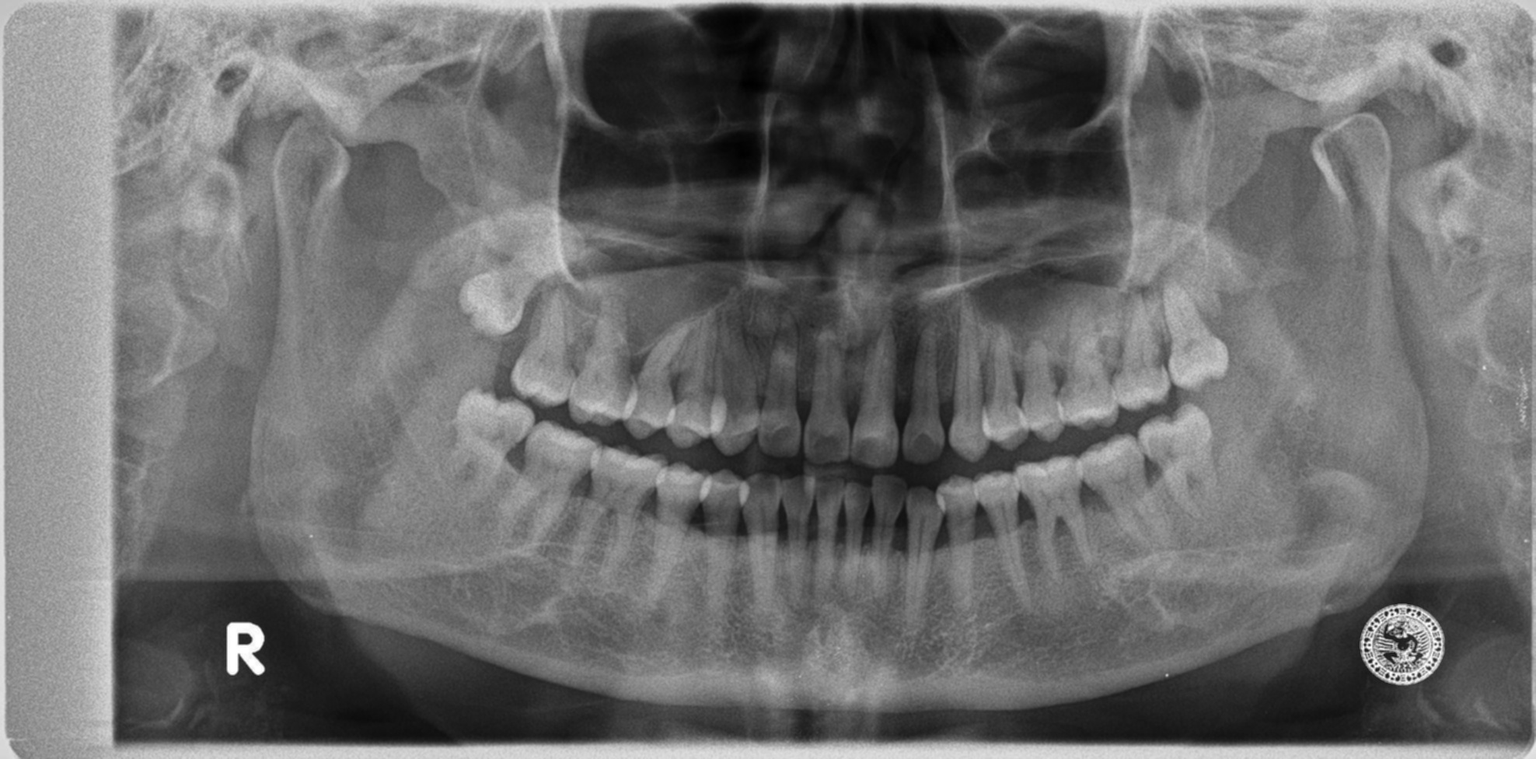Individual Tooth: (496, 421, 599, 548), (572, 442, 668, 576), (1076, 435, 1169, 547), (569, 286, 637, 425), (1014, 456, 1090, 579), (623, 318, 698, 439), (649, 463, 714, 596), (1137, 404, 1213, 517), (665, 310, 727, 447), (972, 471, 1031, 610), (699, 471, 749, 628), (710, 297, 759, 456), (511, 289, 574, 406), (1164, 283, 1227, 390), (851, 327, 899, 467), (948, 294, 988, 461), (1057, 319, 1118, 428), (901, 323, 948, 464), (1112, 296, 1170, 410), (457, 390, 535, 472), (804, 327, 850, 464), (759, 306, 801, 456), (982, 324, 1029, 449), (902, 487, 943, 628), (738, 474, 780, 610), (937, 475, 978, 612), (866, 475, 906, 588), (780, 475, 814, 601), (1021, 341, 1061, 438), (814, 478, 845, 590), (840, 483, 871, 577)
